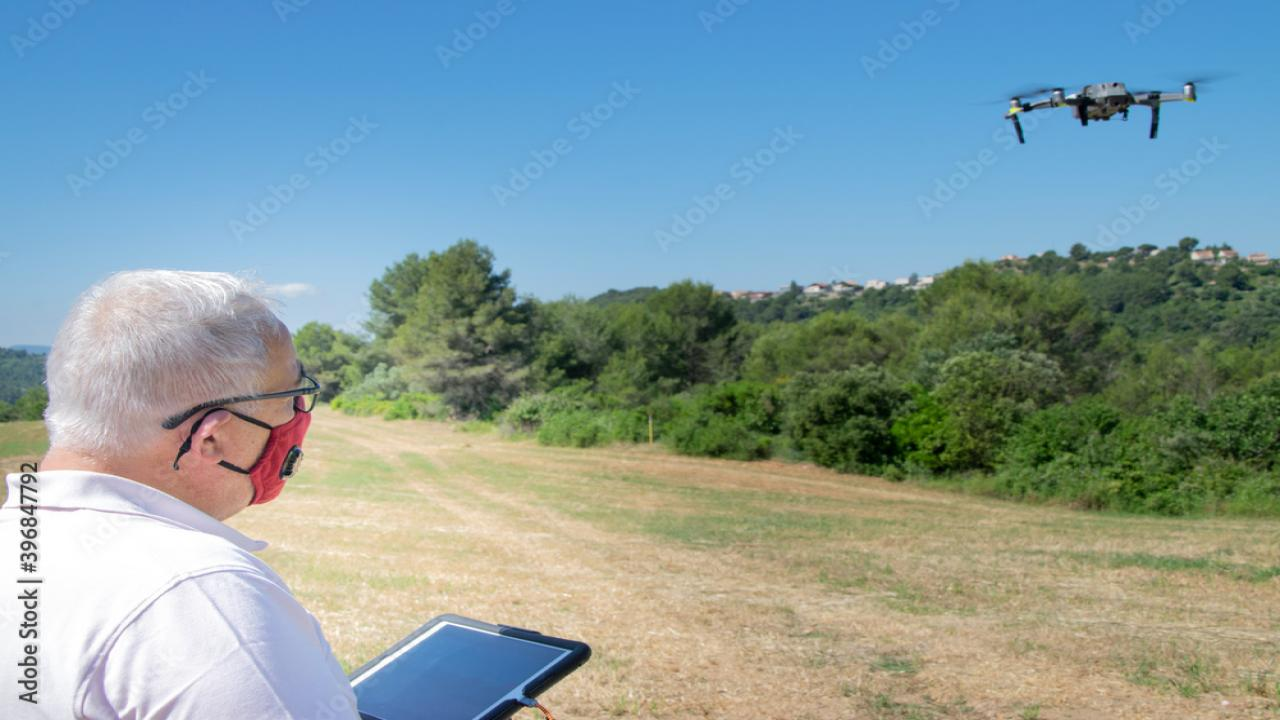Drone: (980, 60, 1255, 157)
